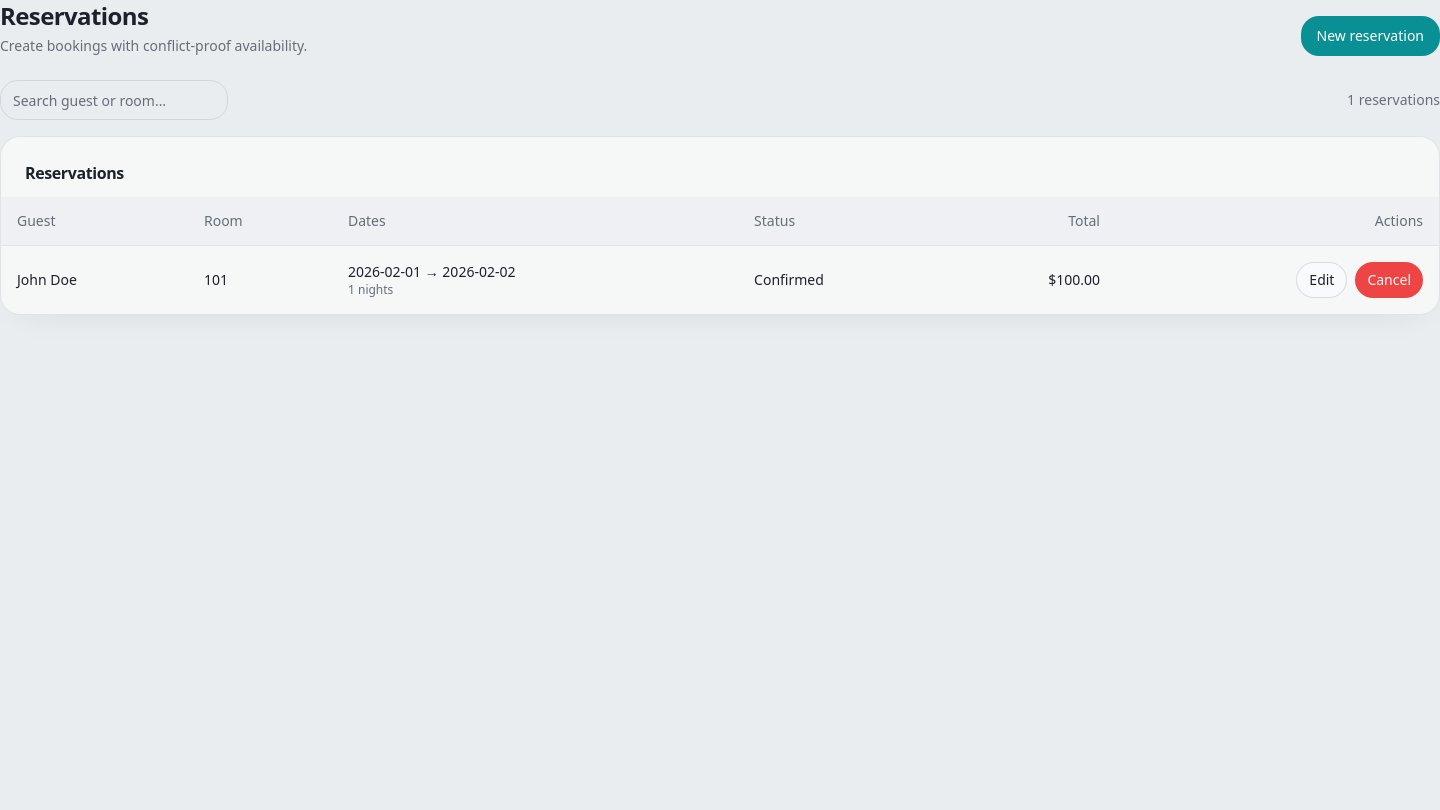
Test: Reservations page › cancels a reservation and refreshes the UI after success
Expected: the text "confirmed" is shown, [738,245,945,314]
// Open confirm dialog (trigger button)
Step 1. Click the button "Cancel" → (1389, 280), box [1355,262,1423,298]
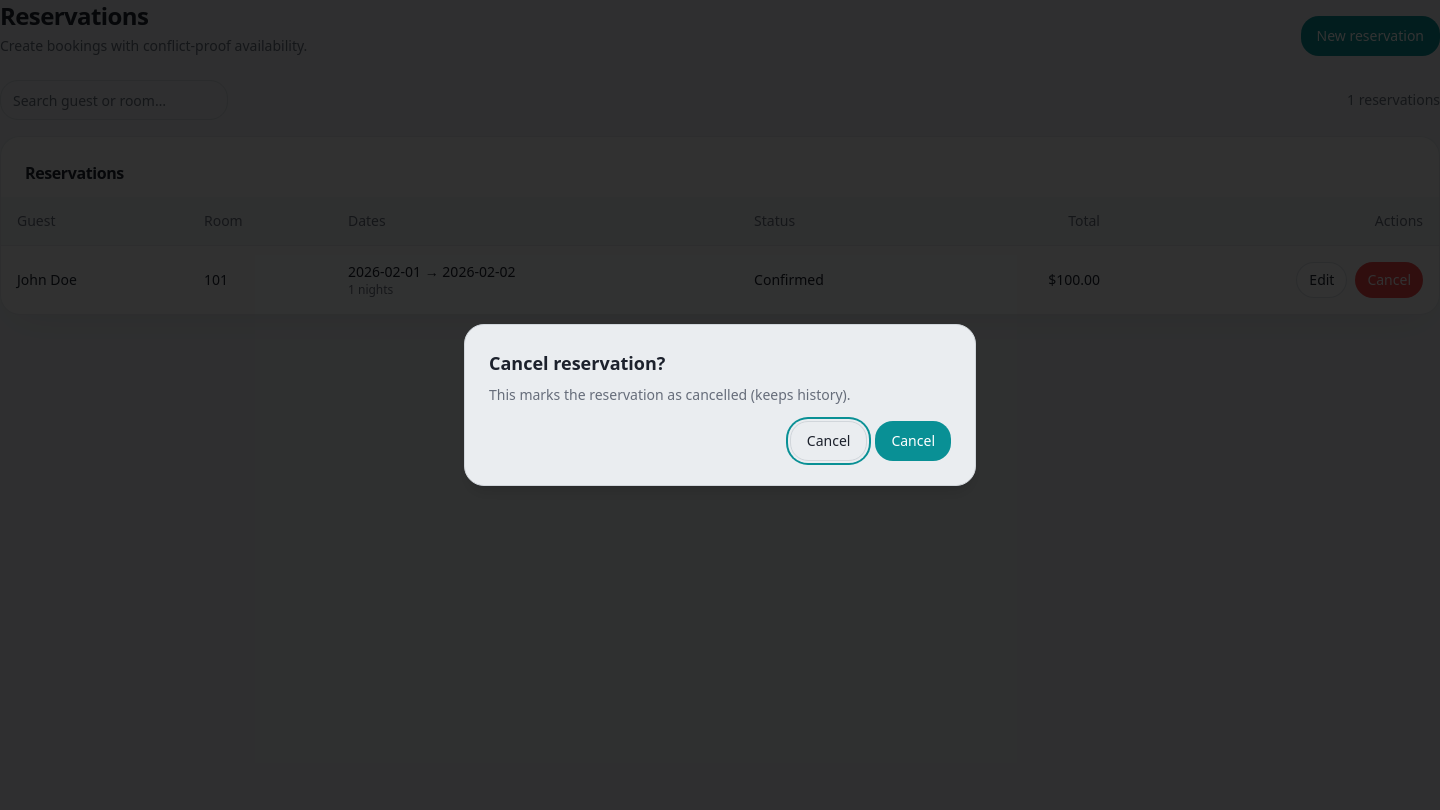
// Confirm cancel
Step 2. Click the 2nd button "Cancel" → (913, 441), box [875,421,951,461]
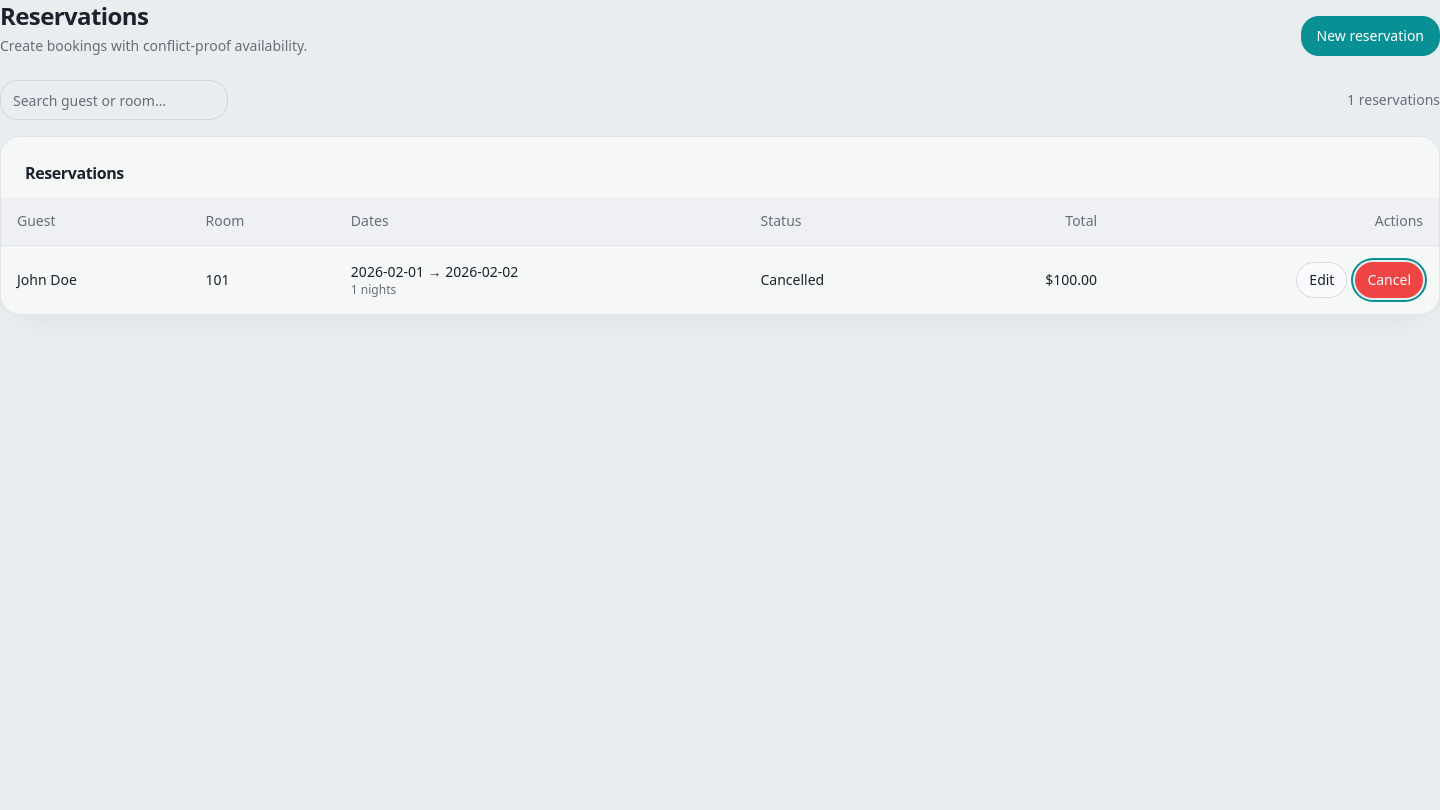
Now the text "cancelled" is shown, box [744,245,941,314]
